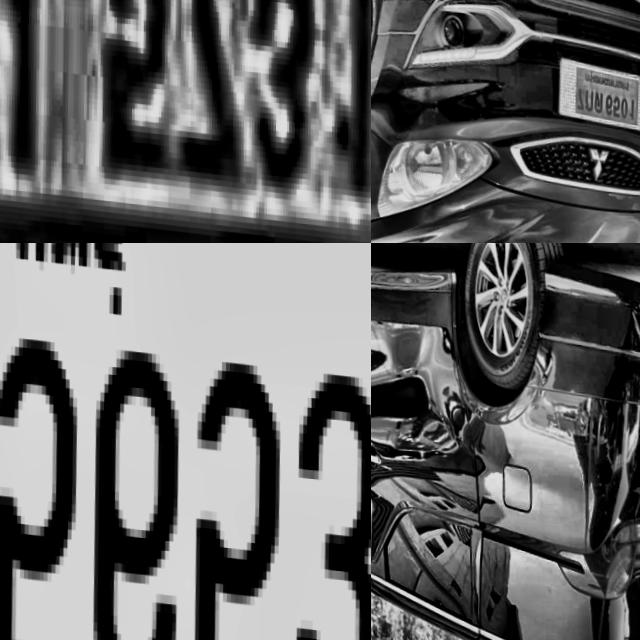license-plate: (0, 243, 371, 640), (0, 0, 371, 243), (570, 53, 640, 118)
